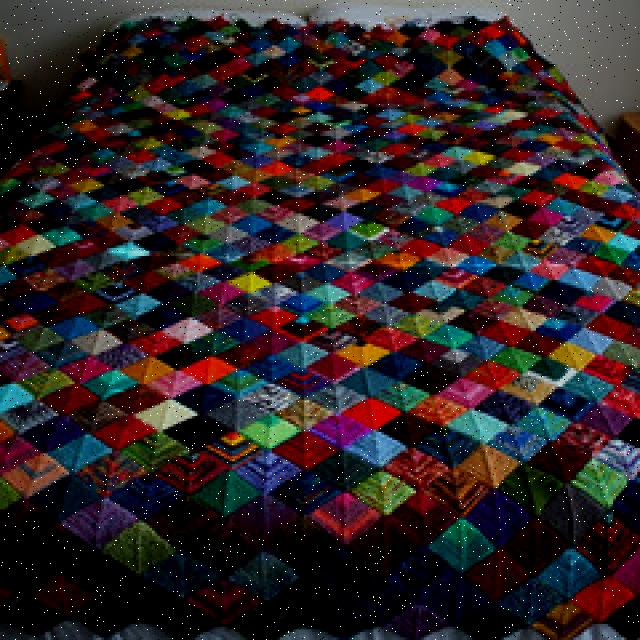bed: (7, 10, 640, 640)
